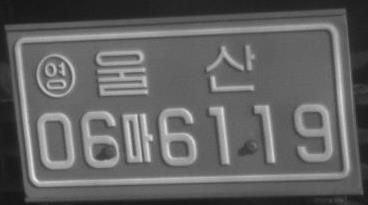0: (37, 110, 75, 170)
1: (246, 104, 286, 164), (203, 105, 239, 165)
6: (157, 107, 198, 167), (79, 110, 120, 169)
9: (293, 103, 333, 163)
마: (121, 111, 153, 163)
영: (35, 53, 76, 98)
울산_D: (94, 43, 255, 98)
